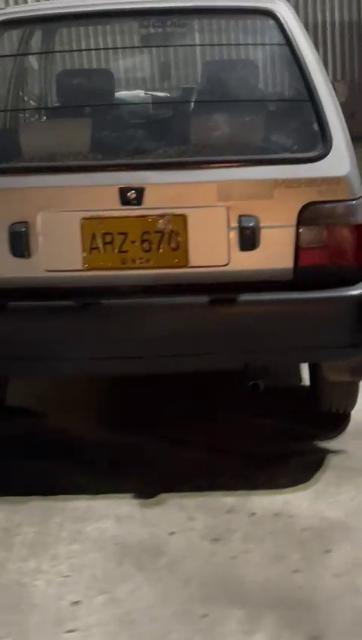plate: (81, 214, 188, 270)
